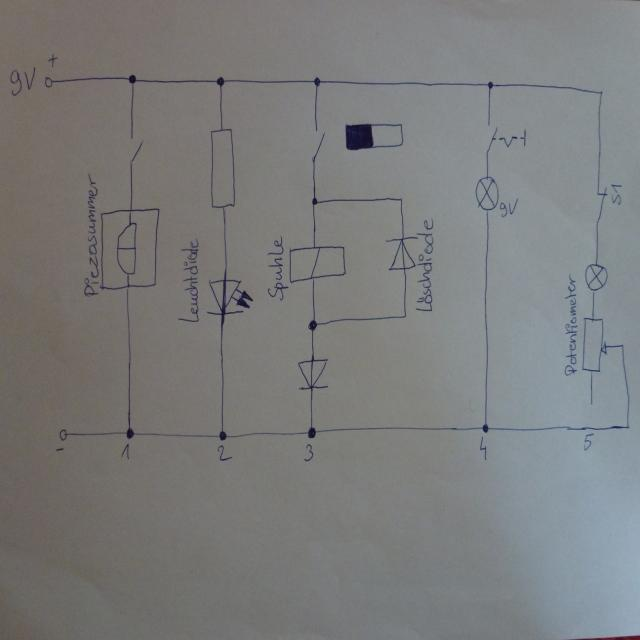diode: (206, 275, 255, 316), (384, 235, 418, 271), (296, 357, 330, 392)
inductor: (288, 243, 346, 284)
junction: (305, 422, 318, 439), (307, 317, 319, 333), (214, 74, 226, 88), (126, 72, 138, 85), (312, 73, 322, 88), (124, 425, 134, 440), (310, 195, 320, 208), (218, 428, 227, 442), (480, 422, 490, 433), (486, 78, 494, 90), (596, 88, 604, 98), (618, 340, 625, 350), (624, 422, 631, 432), (397, 194, 404, 202), (401, 312, 407, 318)
resistor: (207, 124, 236, 213), (580, 313, 608, 373)
switch: (484, 123, 527, 152), (588, 184, 608, 228), (308, 127, 329, 167), (126, 134, 144, 165)
terminal: (57, 427, 69, 443), (44, 74, 54, 88)
text: (176, 234, 202, 324), (82, 170, 99, 296), (414, 215, 434, 312), (562, 271, 579, 378), (267, 232, 289, 302), (7, 64, 36, 99), (498, 196, 518, 218), (216, 441, 232, 463), (581, 429, 595, 453), (302, 440, 315, 462), (610, 182, 622, 205), (119, 441, 132, 461), (478, 437, 488, 461)
